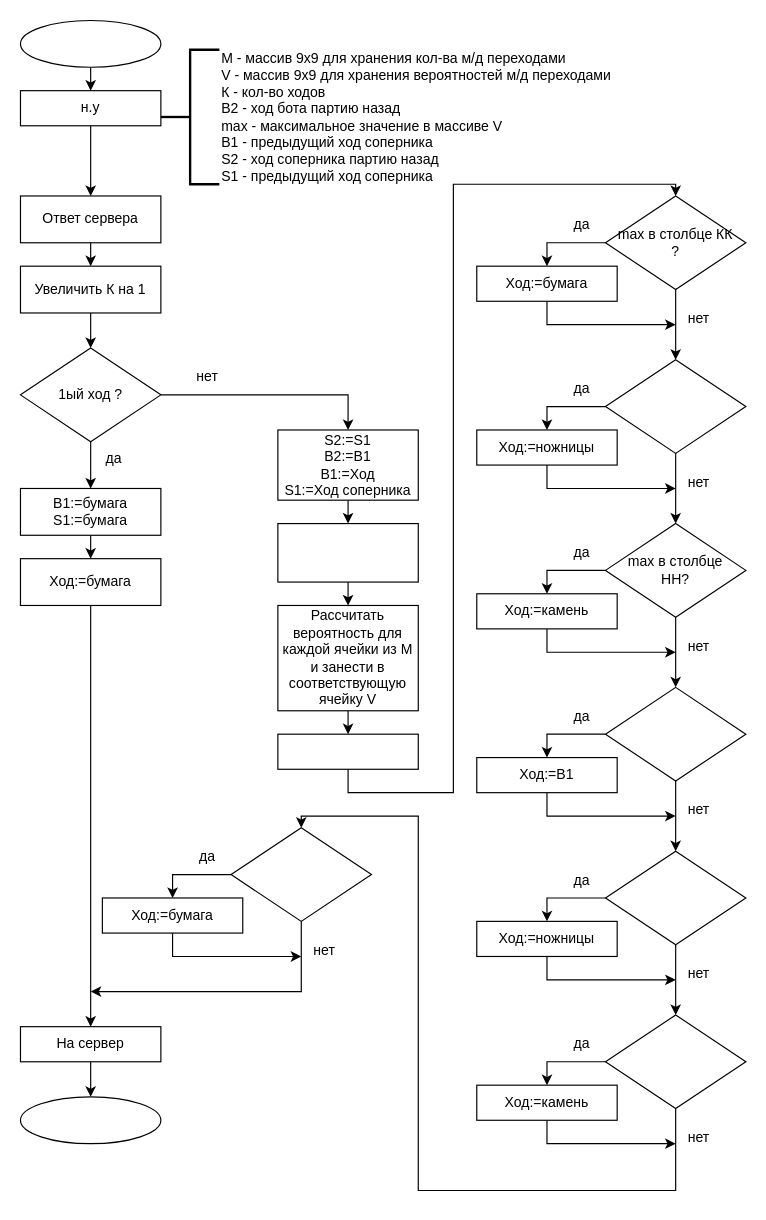
Some shapes in this 766 by 1220 pixel diagram are drawn without their labels. Each missing label, with the centre of its shape:
max в 4 или в 5 или в 6 столбце?: the point at 675,733
max в столбце ББ?: the point at 675,406
max в столбце БН?: the point at 675,1061
max в столбце КБ?: the point at 675,897
max в столбце НК?: the point at 300,874
Конец: the point at 90,1120
Найти max: the point at 347,751
Начало: the point at 90,43
Увеличить значение ячейки M[S2B2,S1B1] на 1: the point at 347,552
